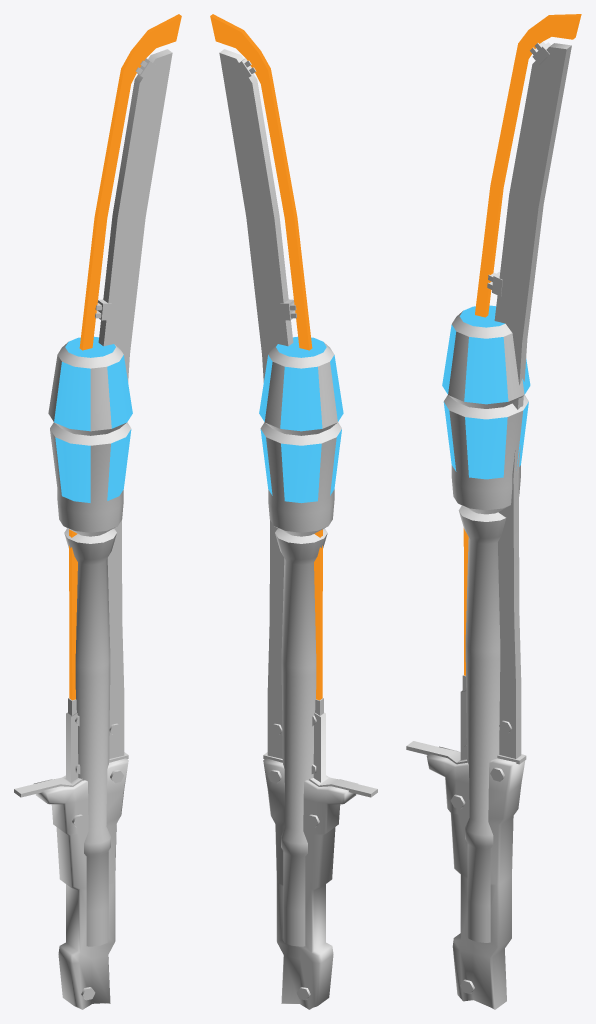
Rendered from BLAKE_Melee.fbx.
The picture shows the model from 3 angles, left to right: view 1: azimuth 30°, elevation 25°; view 2: azimuth 150°, elevation 25°; view 3: azimuth 330°, elevation 25°; orthographic projection. The views are drawn at different scales.
Parts seen in each view (by area): view 1: SM_Katana, Cylinder; view 2: SM_Katana, Cylinder; view 3: SM_Katana, Cylinder.
Part boxes in pixels (x1,y1,x2,y2): SM_Katana: (14,14,181,1009); Cylinder: (48,336,132,946); SM_Katana: (210,14,377,1009); Cylinder: (259,336,343,946); SM_Katana: (406,14,581,1009); Cylinder: (442,305,530,942).
Size of the model in its own units: 169 by 956 by 75.83.
